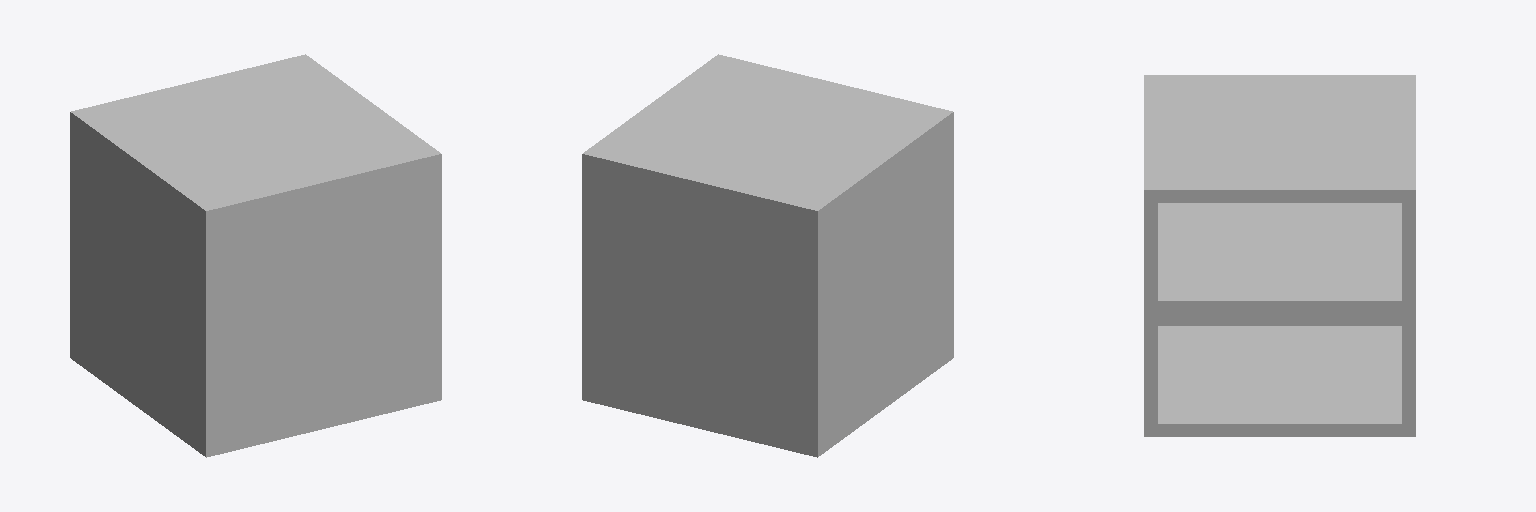
Rendered from cupboard.obj.
3 renders of one model, left to right at view 1: azimuth 30°, elevation 25°; view 2: azimuth 150°, elevation 25°; view 3: azimuth 270°, elevation 25°, orthographic.
Visible parts, largest first — view 1: Cube_Cube.002; view 2: Cube_Cube.002; view 3: Cube_Cube.002.
Boxes of the visible parts, box(x1,y1,x2,y2) form: Cube_Cube.002: box(70, 54, 441, 457); Cube_Cube.002: box(582, 54, 953, 457); Cube_Cube.002: box(1144, 75, 1415, 436).
Bounding box in the file's own units: 1 × 1 × 1.